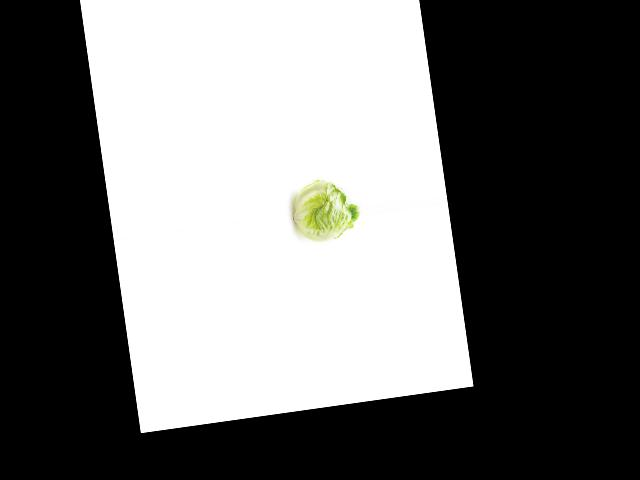lettuce: (285, 169, 364, 248)
